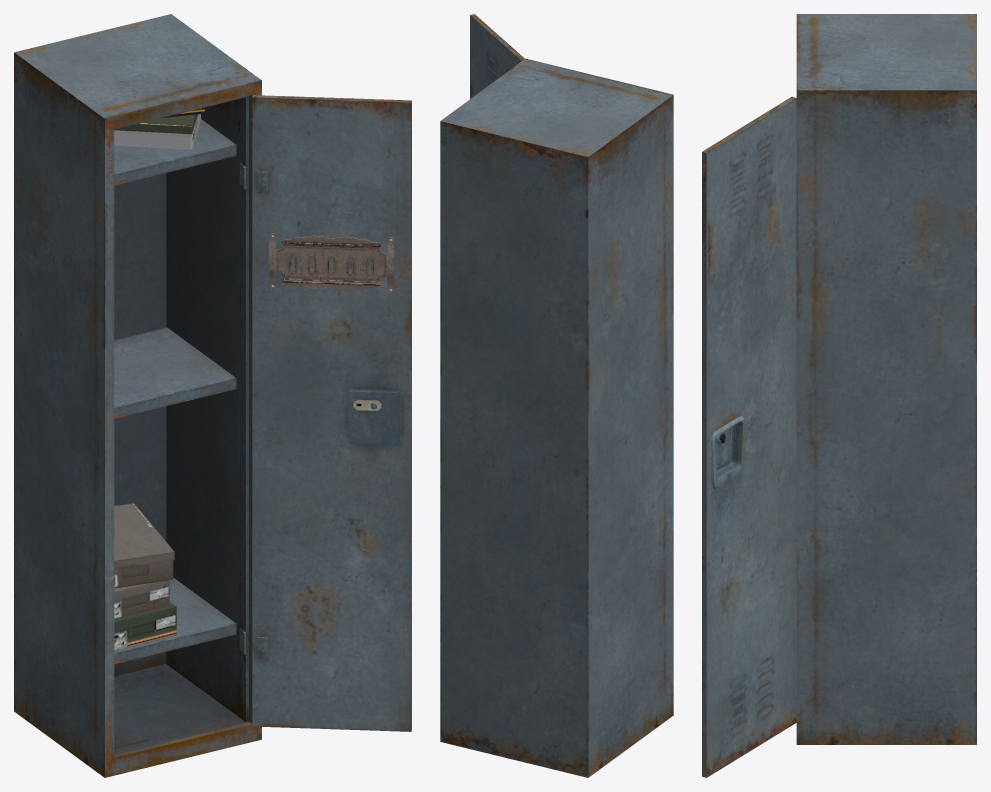
The model's file is 263_locker02a.fbx.
3 views of the same model, side by side, from view 1: azimuth 30°, elevation 25°; view 2: azimuth 150°, elevation 25°; view 3: azimuth 270°, elevation 25° (orthographic). The views are drawn at different scales.
Parts seen in each view (by area): view 1: LOD_1_Group_0_Sub_1__sm30_051_Locker01A_A_Mat, LOD_1_Group_1_Sub_1__sm30_051_Locker01A_A_Mat, LOD_1_Group_0_Sub_2__sm32_191_MilitaryBox01A_A_Mat, LOD_1_Group_3_Sub_1__sm30_051_Locker01A_A_Mat, LOD_1_Group_0_Sub_3__sm30_263_Locker01A_A_Mat1, LOD_1_Group_4_Sub_1__sm30_051_Locker01A_A_Mat; view 2: LOD_1_Group_0_Sub_1__sm30_051_Locker01A_A_Mat, LOD_1_Group_1_Sub_1__sm30_051_Locker01A_A_Mat; view 3: LOD_1_Group_0_Sub_1__sm30_051_Locker01A_A_Mat, LOD_1_Group_1_Sub_1__sm30_051_Locker01A_A_Mat.
Part boxes in pixels (x1,y1,x2,y2): LOD_1_Group_0_Sub_1__sm30_051_Locker01A_A_Mat: (14,14,261,777); LOD_1_Group_1_Sub_1__sm30_051_Locker01A_A_Mat: (252,95,411,731); LOD_1_Group_0_Sub_2__sm32_191_MilitaryBox01A_A_Mat: (114,107,204,651); LOD_1_Group_3_Sub_1__sm30_051_Locker01A_A_Mat: (114,327,236,418); LOD_1_Group_0_Sub_3__sm30_263_Locker01A_A_Mat1: (269,233,394,293); LOD_1_Group_4_Sub_1__sm30_051_Locker01A_A_Mat: (114,577,236,664); LOD_1_Group_0_Sub_1__sm30_051_Locker01A_A_Mat: (440,58,673,777); LOD_1_Group_1_Sub_1__sm30_051_Locker01A_A_Mat: (470,14,524,98); LOD_1_Group_0_Sub_1__sm30_051_Locker01A_A_Mat: (796,14,976,744); LOD_1_Group_1_Sub_1__sm30_051_Locker01A_A_Mat: (702,96,796,777).
Size of the model in its own units: 0.8324 by 2 by 0.7623.
